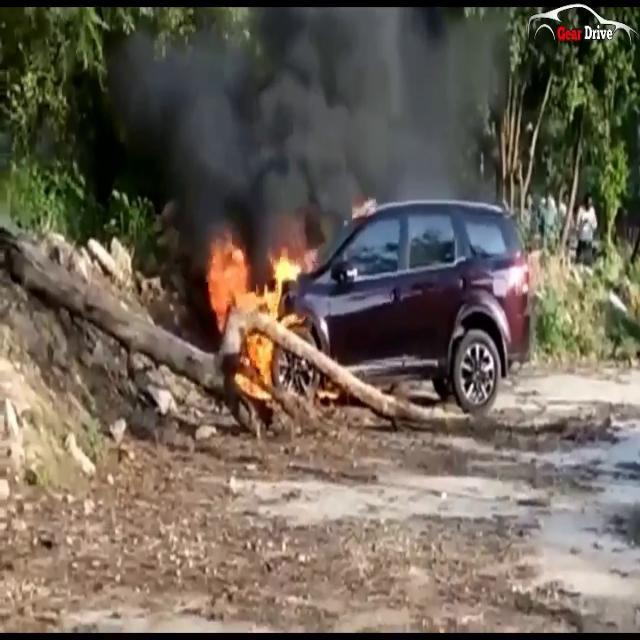Fire: (201, 233, 312, 386)
Smoke: (103, 3, 510, 248)
